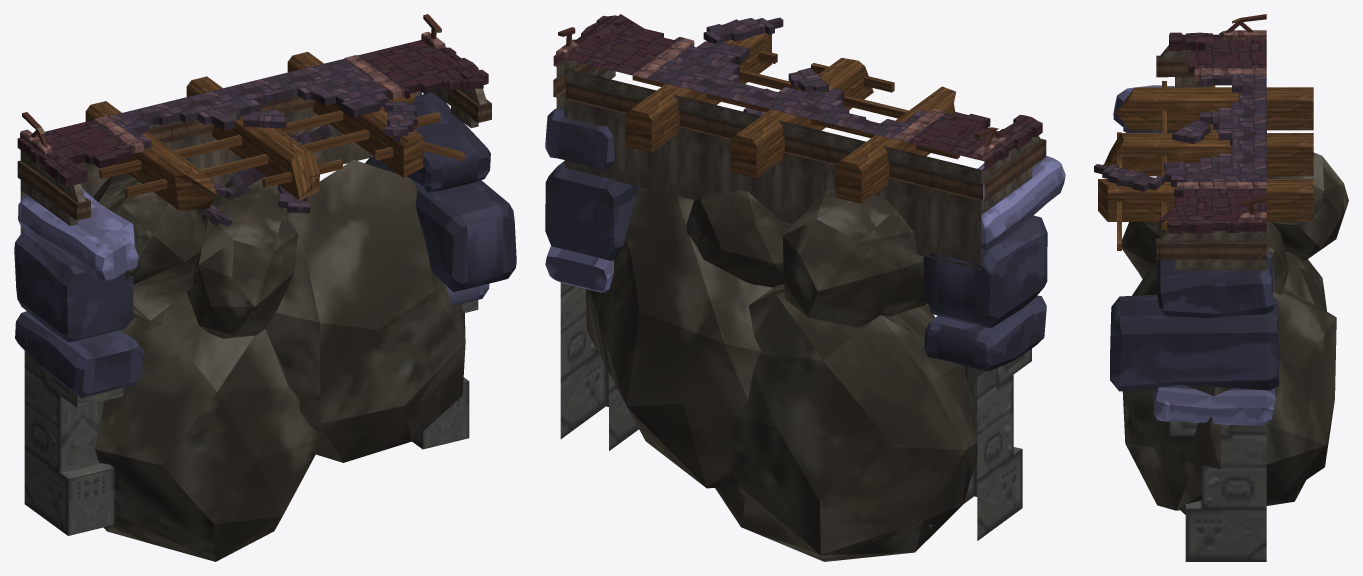
Rendered from Hallway_Cap_16_B.FBX.
The picture shows the model from 3 angles, left to right: view 1: azimuth 30°, elevation 25°; view 2: azimuth 150°, elevation 25°; view 3: azimuth 270°, elevation 25°; orthographic projection. The views are drawn at different scales.
Parts seen in each view (by area): view 1: Hallway_Cap_16_B; view 2: Hallway_Cap_16_B; view 3: Hallway_Cap_16_B.
Part boxes in pixels (x1,y1,x2,y2): Hallway_Cap_16_B: (14,14,516,561); Hallway_Cap_16_B: (545,14,1065,561); Hallway_Cap_16_B: (1094,14,1348,561).
Bounding box in the file's own units: 1716 × 1689 × 946.
1 material, 1 textured.
